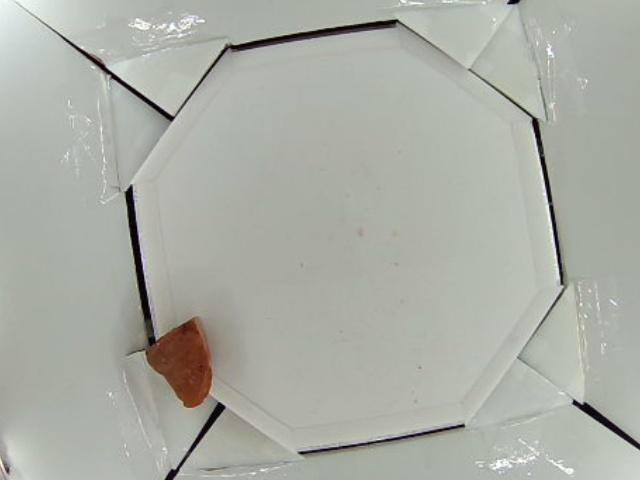Brisk: (143, 319, 215, 411)
